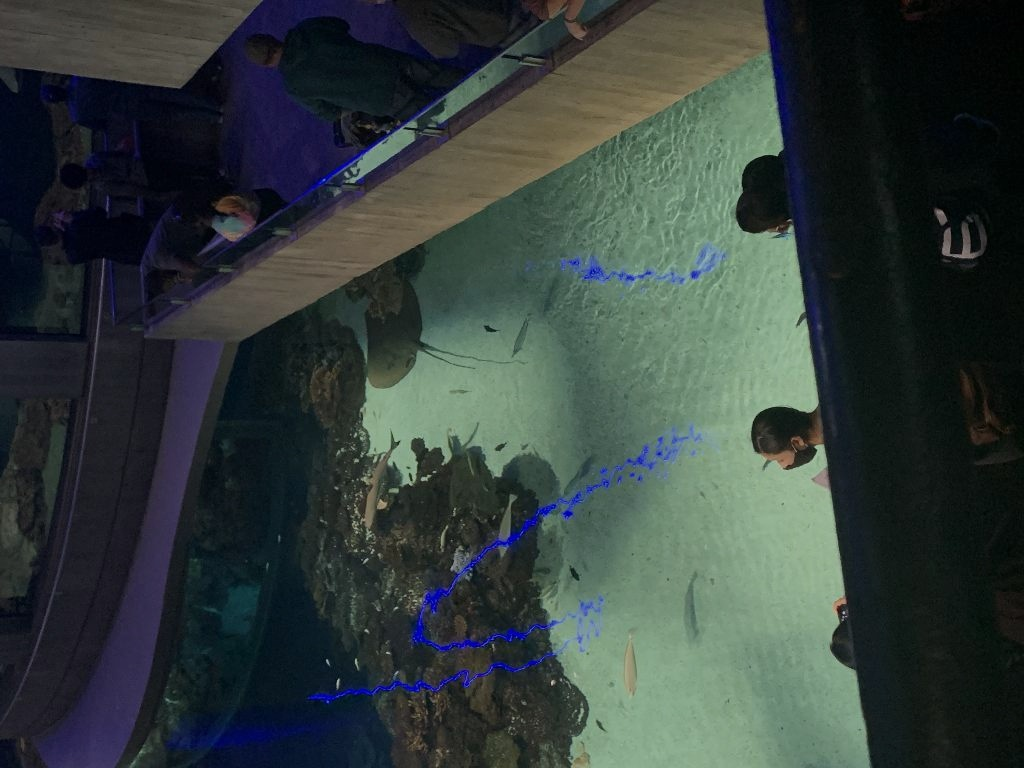fish: (494, 491, 520, 561), (621, 624, 639, 702), (510, 310, 532, 360), (684, 570, 698, 648), (531, 579, 561, 601), (438, 522, 450, 554), (464, 448, 476, 476), (566, 564, 582, 584), (593, 718, 609, 734), (482, 323, 502, 335), (494, 440, 508, 452), (333, 676, 343, 692), (324, 656, 332, 670), (354, 656, 360, 672), (263, 561, 269, 575), (362, 628, 372, 636), (384, 650, 392, 656), (276, 534, 280, 544)
shark: (360, 430, 400, 530)
stingray: (364, 278, 422, 388)
